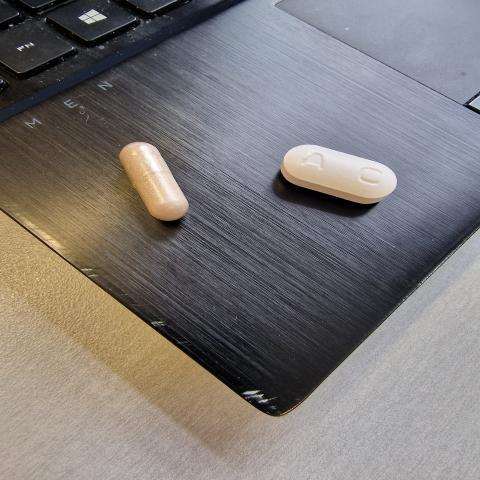Pill: (266, 114, 410, 217), (94, 119, 206, 237)
